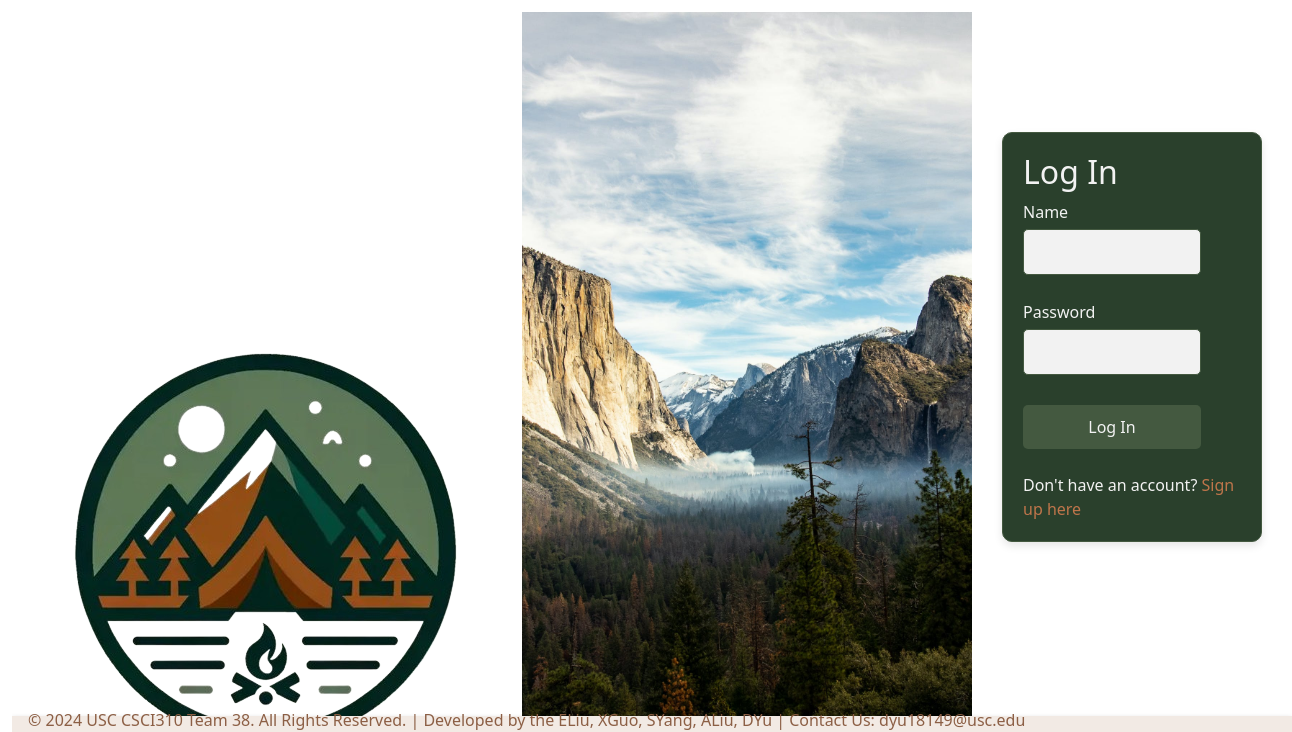
Scenario: displays error message on login failure
This screenshot has width=1292, height=732.
In the field labelled "Name": (1112, 252) [1023,229,1201,275], type "wrongUsername"
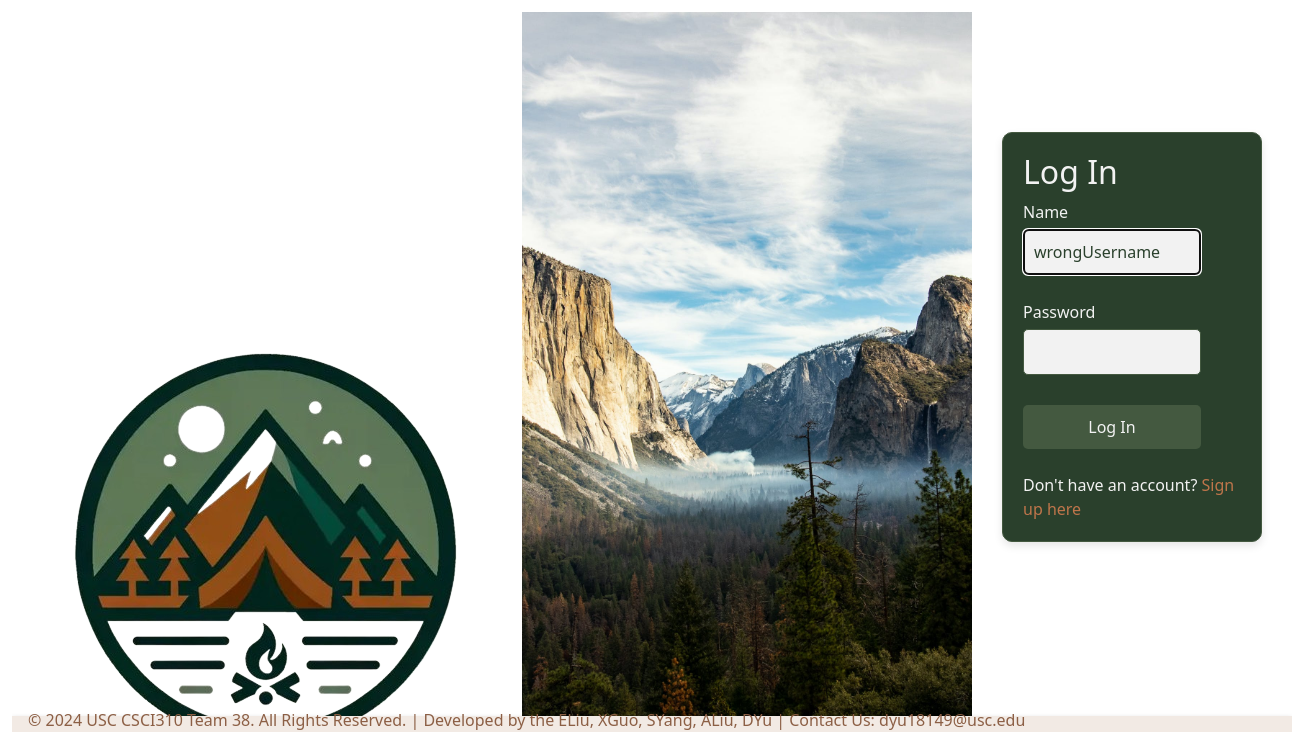
In the password field labelled "Password": (1112, 352) [1023,329,1201,375], type "wrongPassword"
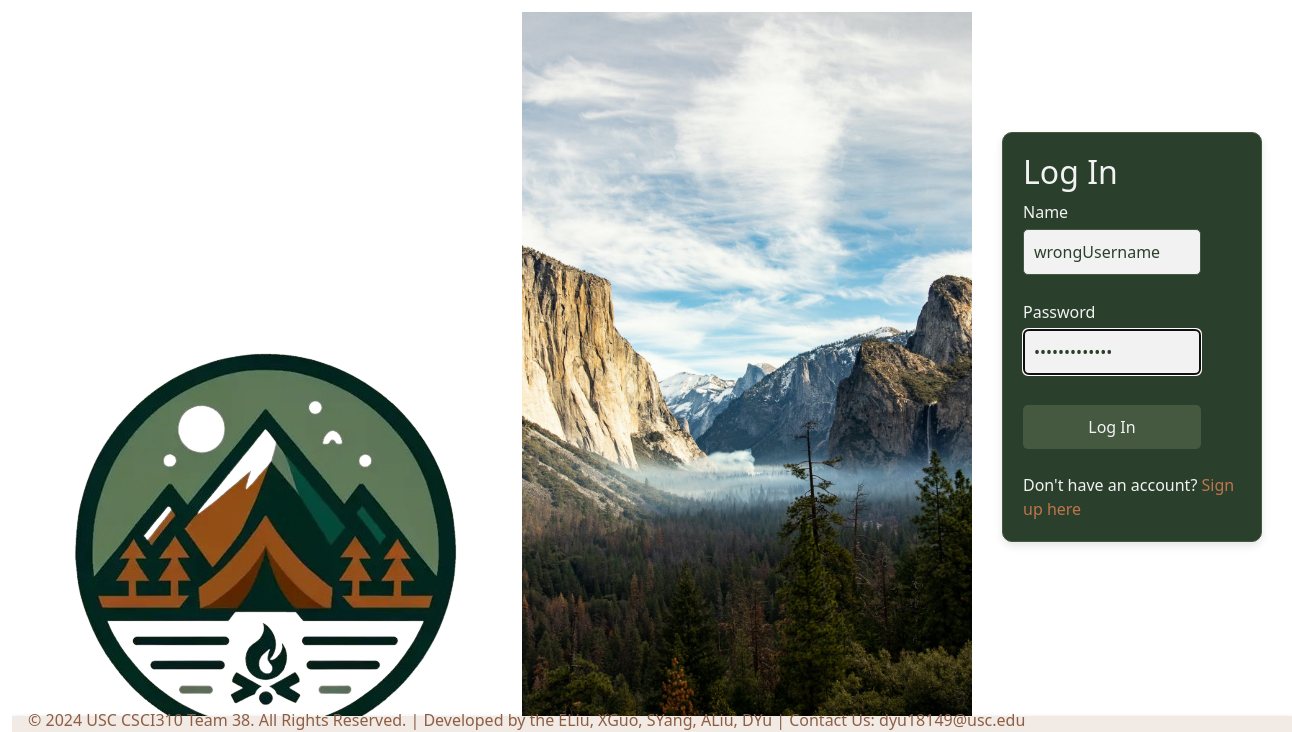
Click the button "Log In": (1112, 427) [1023,405,1201,449]
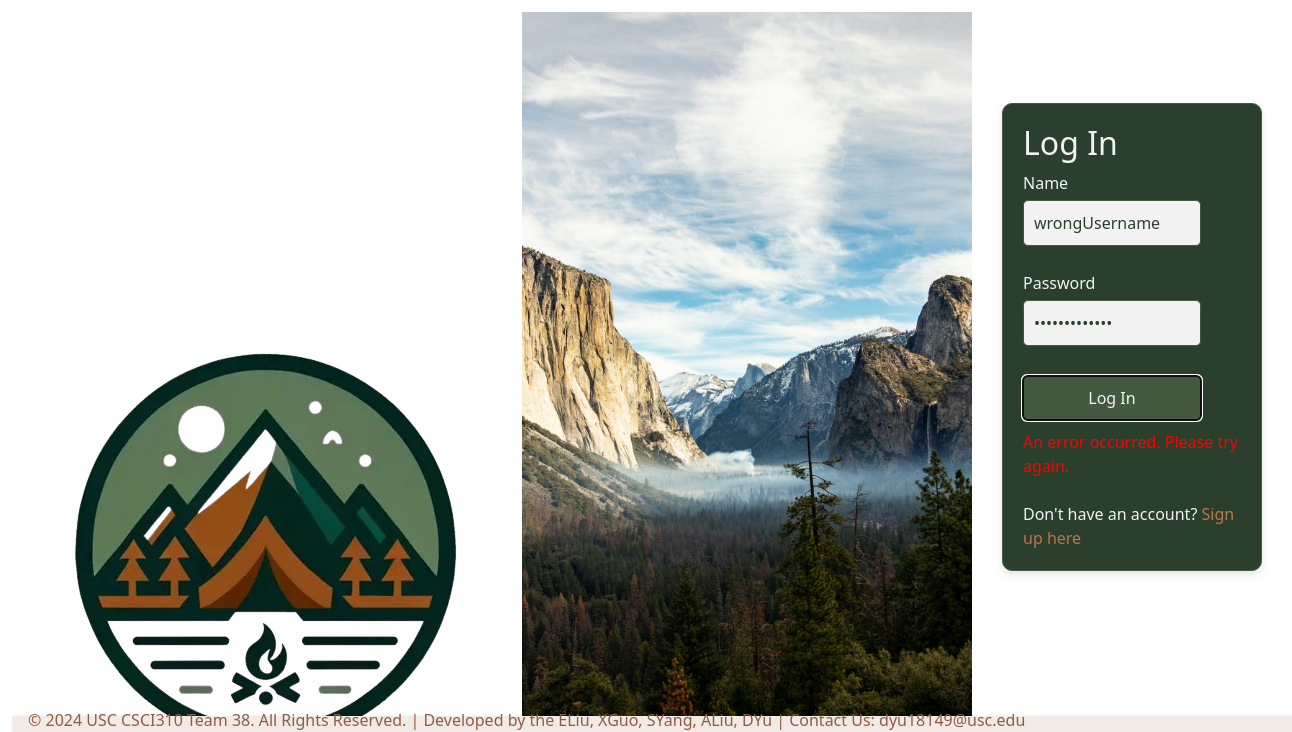
Check: the text with test id "login-error" reads "An error occurred. Please try again.", box [1023,431,1238,477]
